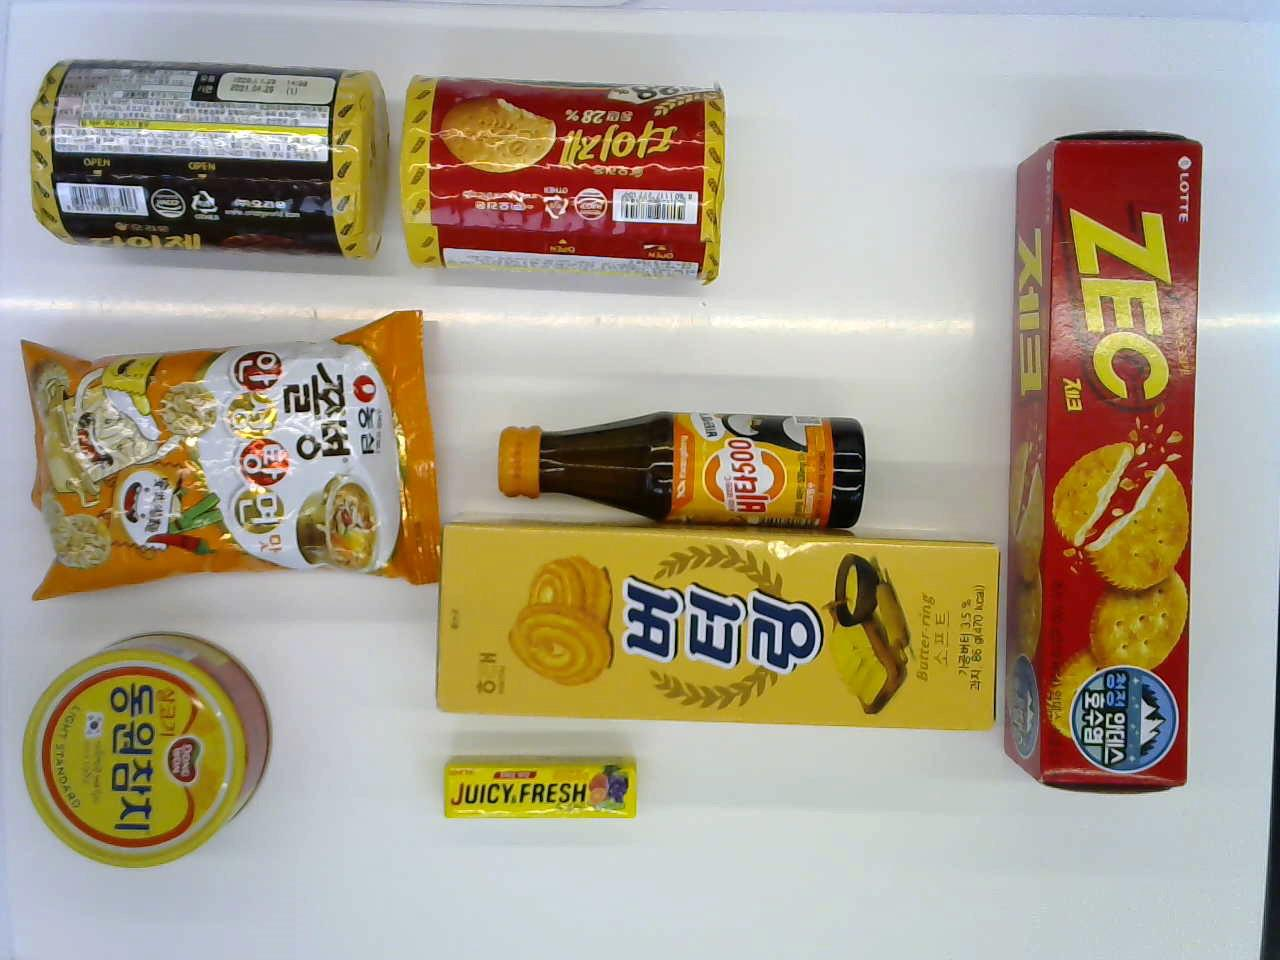buttering: (433, 514, 995, 746)
diget_choco: (24, 52, 398, 270)
diget_ori: (384, 73, 759, 291)
jjolbyung_noodle: (21, 316, 446, 591)
juicyfresh: (443, 747, 643, 835)
tuna: (24, 619, 278, 873)
vita500: (492, 399, 871, 532)
zec: (1007, 120, 1212, 810)
